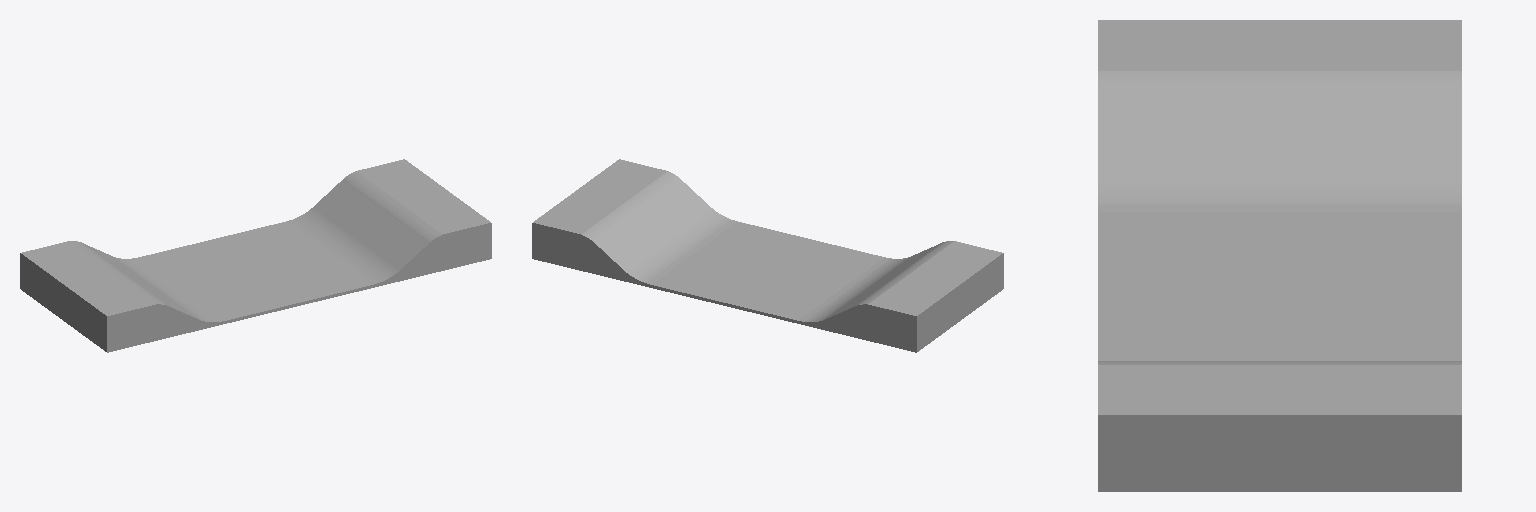
URDF robot description (tray):
<robot name="tray">
  <link name="tray_base_link">
    <contact>
      <lateral_friction value="0.2"/>
      <rolling_friction value="0.001"/>
      <contact_cfm value="0.0"/>
      <contact_erp value="1.0"/>
    </contact>
    <inertial>
      <origin rpy="0 0 0" xyz="0 0 0"/>
      <mass value="0"/>
      <inertia ixx="0" ixy="0" ixz="0" iyy="0" iyz="0" izz="0"/>
    </inertial>
    <visual>
      <origin rpy="0 0 0" xyz="0 0 0"/>
      <geometry>
        <mesh filename="table.obj" scale="0.008 0.01 0.01"/>
      </geometry>
      <material name="tray_material">
        <color rgba="0.7 0.7 0.7 1"/>
      </material>
    </visual>
    <collision>
      <origin rpy="0 0 0" xyz="0 0 0"/>
      <geometry>
        <mesh filename="table.obj" scale="0.008 0.01 0.01"/>
      </geometry>
    </collision>
  </link>
</robot>

--- Facts derived from the render (not from the file) ---
The picture shows the robot from 3 angles, left to right: view 1: azimuth 30°, elevation 25°; view 2: azimuth 150°, elevation 25°; view 3: azimuth 270°, elevation 25°; orthographic projection.
Model tray with 1 links and 0 joints (none), rooted at tray_base_link, posed all joints at 0.
Links seen in each view (by area): view 1: tray_base_link; view 2: tray_base_link; view 3: tray_base_link.
Boxes of the visible links, bbox=[...] form: tray_base_link: bbox=[20, 159, 491, 352]; tray_base_link: bbox=[532, 159, 1003, 352]; tray_base_link: bbox=[1098, 20, 1461, 491].
Size in the robot's own frame: 1.28 by 0.5 by 0.116 metres.
Meshes: 1 distinct files referenced, 1 mesh visuals loaded (1 OBJ).